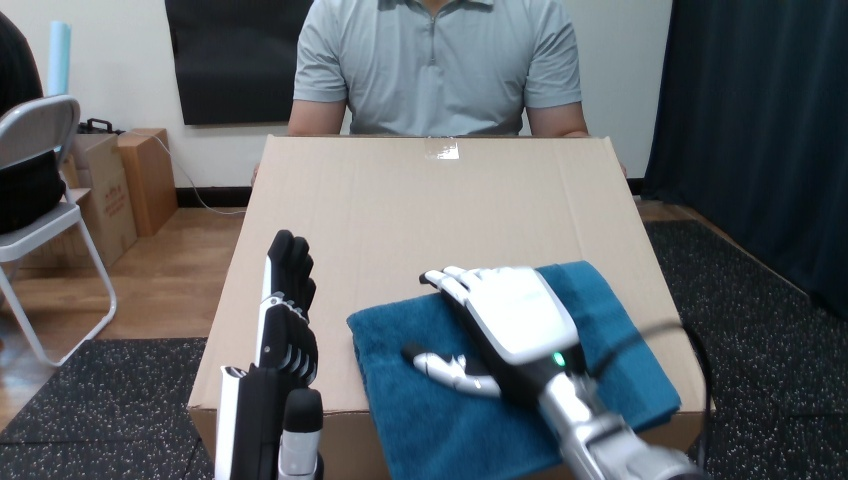left robot hand: (403, 266, 703, 479), (215, 230, 317, 479)
